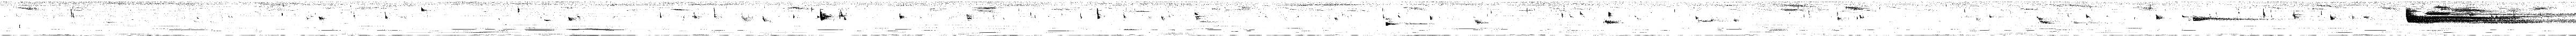meteor: (2405, 7, 2543, 23), (2192, 16, 2247, 21), (820, 10, 833, 21), (2037, 16, 2054, 25), (741, 15, 754, 21), (1385, 21, 1398, 26), (2155, 13, 2165, 20), (1474, 20, 1488, 23), (1605, 20, 1620, 23), (841, 10, 848, 16), (2292, 13, 2300, 18), (2330, 15, 2336, 20), (568, 16, 577, 20), (2182, 15, 2190, 18), (762, 16, 767, 21), (899, 15, 904, 20), (2085, 13, 2090, 18), (319, 16, 325, 20), (384, 13, 388, 20), (421, 8, 427, 11), (692, 16, 701, 18), (1579, 11, 1584, 15), (1194, 11, 1198, 15)
